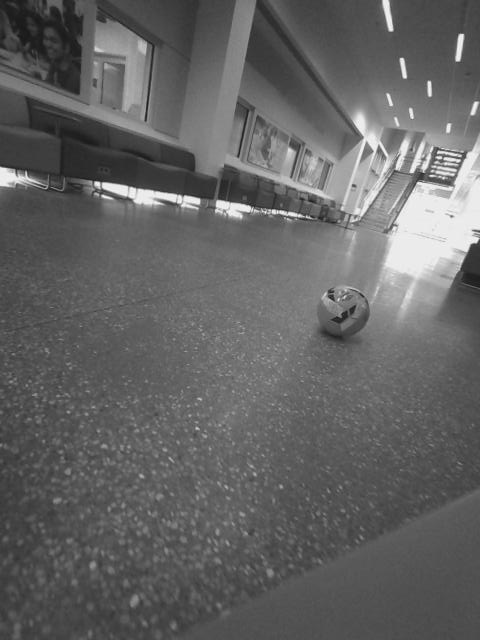ball: (317, 236, 370, 290)
